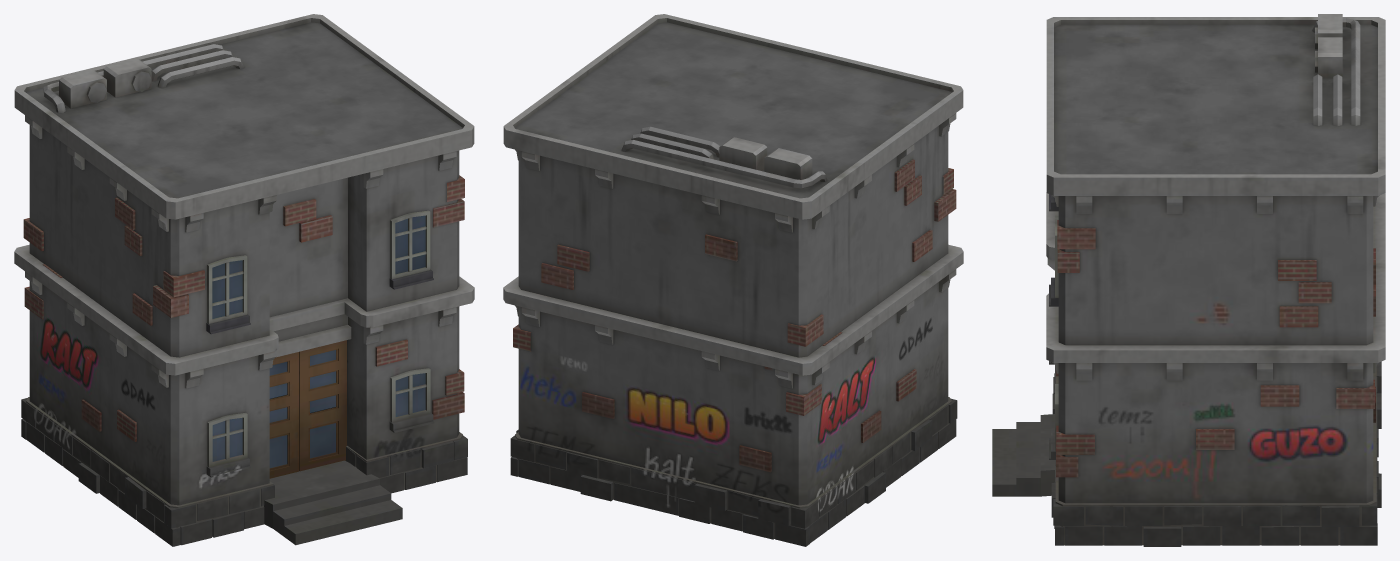
File: 2Story_Center.glb
3 renders of one model, left to right at view 1: azimuth 30°, elevation 25°; view 2: azimuth 150°, elevation 25°; view 3: azimuth 270°, elevation 25°, orthographic. The views are drawn at different scales.
Visible parts, largest first — view 1: 2Story_Center_low; view 2: 2Story_Center_low; view 3: 2Story_Center_low.
Part boxes in pixels (<box>): 2Story_Center_low: <box>14,14,474,546</box>; 2Story_Center_low: <box>503,14,963,546</box>; 2Story_Center_low: <box>992,14,1385,546</box>.
Bounding box in the file's own units: 2.42 × 2.74 × 2.5.
2 materials, 2 textured.
